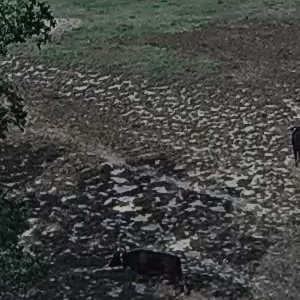cow: (90, 215, 215, 293)
